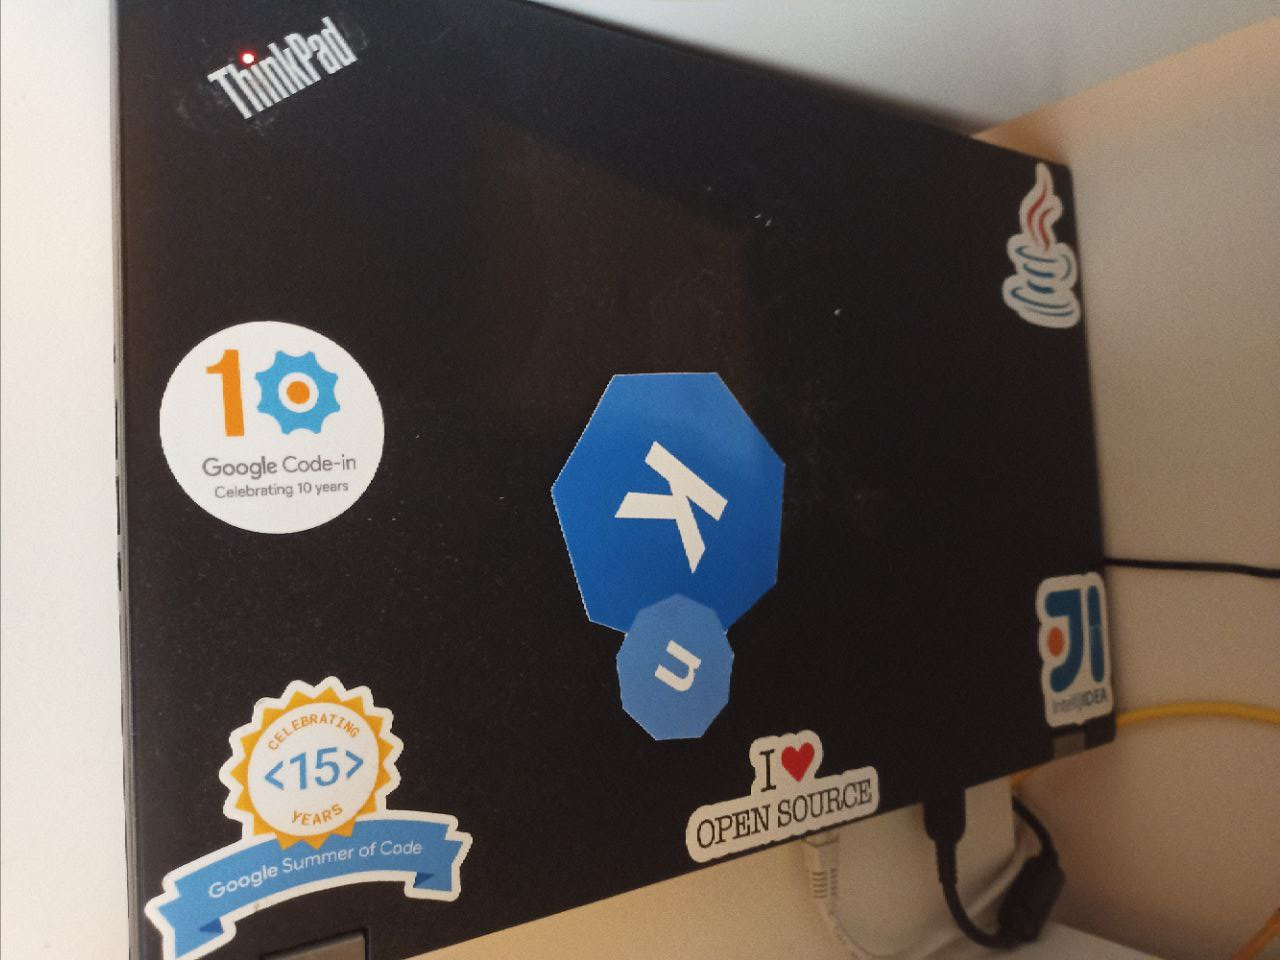knative: (552, 372, 786, 741)
